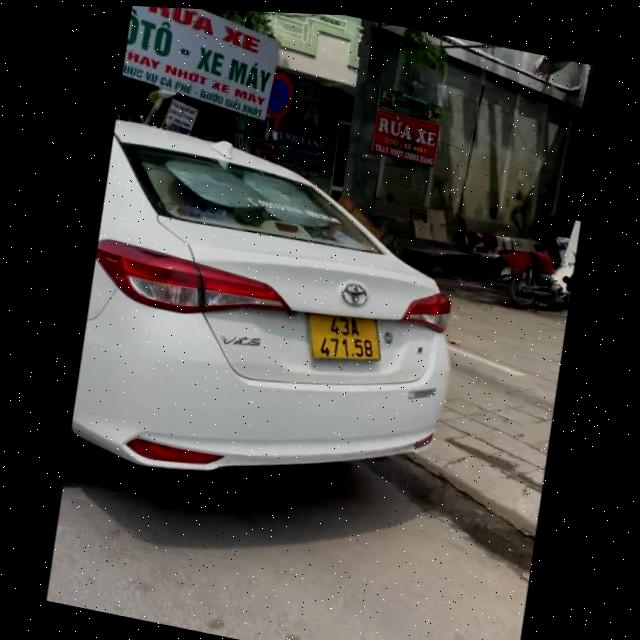car: (60, 111, 484, 546)
plate: (292, 299, 397, 379)
